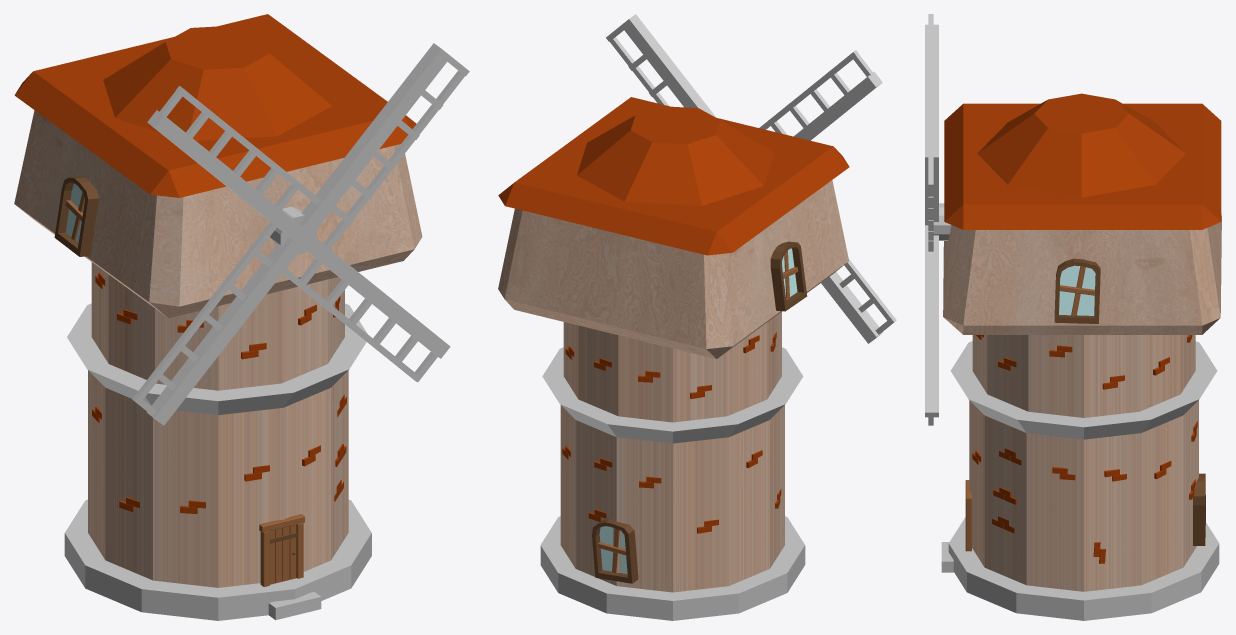
File: wind4.fbx
3 views of the same model, side by side, from view 1: azimuth 30°, elevation 25°; view 2: azimuth 150°, elevation 25°; view 3: azimuth 270°, elevation 25° (orthographic). The views are drawn at different scales.
Parts seen in each view (by area): view 1: Cylinder, Cube.001, Cube, Cylinder.002, Cylinder.003, Cylinder.004, Icosphere, Plane.054, Cube.002; view 2: Cylinder, Cube.001, Cube, Cylinder.003, Cylinder.002, Cylinder.004, Plane.055, Plane.054, Cube.002; view 3: Cylinder, Cube.001, Cube, Cylinder.003, Cylinder.004, Cylinder.002, Plane.056, Cube.002, Plane.055, Icosphere.
Part boxes in pixels (x1,y1,x2,y2): Cylinder: (88,262,348,587); Cube.001: (14,14,416,197); Cube: (14,110,422,318); Cylinder.002: (132,43,469,425); Cylinder.003: (64,499,371,620); Cylinder.004: (67,303,367,415); Icosphere: (259,514,304,586); Plane.054: (54,176,98,256); Cube.002: (92,273,346,513); Cylinder: (560,312,784,592); Cube.001: (498,97,849,255); Cube: (498,180,848,359); Cylinder.003: (540,516,805,620); Cylinder.002: (606,14,896,343); Cylinder.004: (542,347,803,443); Plane.055: (592,519,638,583); Plane.054: (770,241,807,311); Cube.002: (562,332,781,533); Cylinder: (969,335,1198,591); Cube.001: (944,93,1221,229); Cube: (943,214,1221,334); Cylinder.003: (941,517,1219,620); Cylinder.004: (950,341,1217,439); Cylinder.002: (925,14,951,425); Plane.056: (1054,258,1100,323); Cube.002: (972,335,1197,563); Plane.055: (1193,473,1205,545); Icosphere: (965,480,971,551).
Size of the model in its own units: 275 by 442 by 240.
